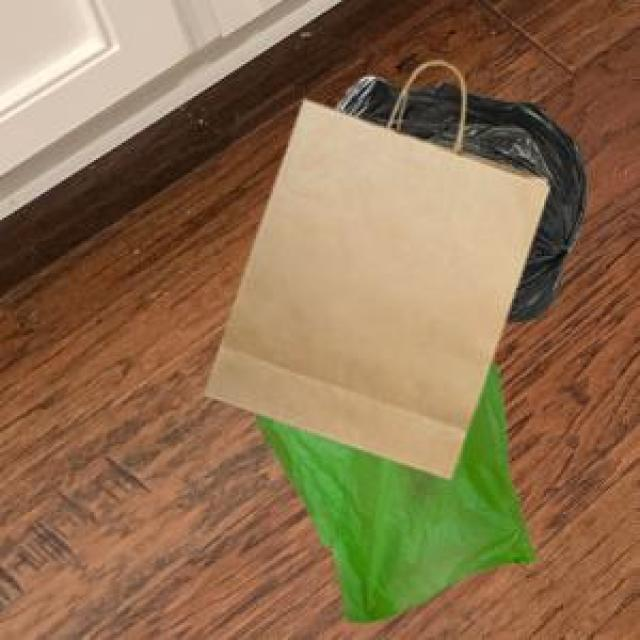miscellaneous trash: (333, 73, 580, 318)
paper: (201, 56, 544, 474)
